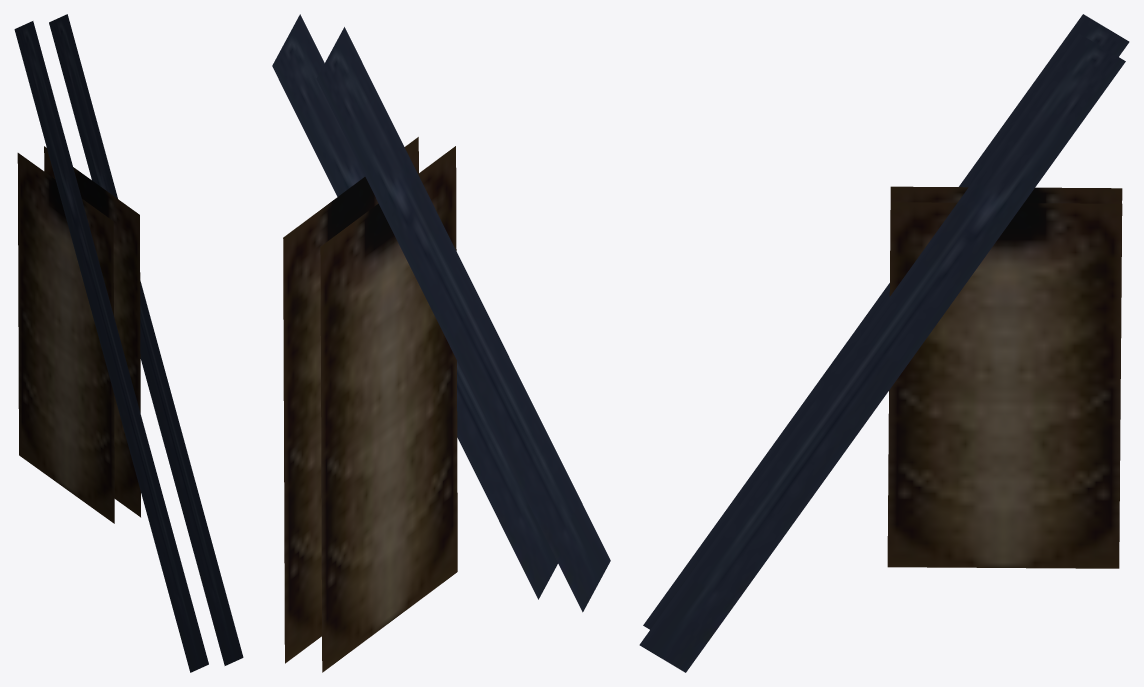
The model's file is sign1_eng_a_icon_tailor.fbx.
3 renders of one model, left to right at view 1: azimuth 30°, elevation 25°; view 2: azimuth 150°, elevation 25°; view 3: azimuth 270°, elevation 25°, orthographic. The views are drawn at different scales.
Parts seen in each view (by area): view 1: icon_thread, icon_needle; view 2: icon_thread, icon_needle; view 3: icon_thread, icon_needle.
Part boxes in pixels (x1=…): icon_thread: x1=17, y1=146, x2=140, y2=523; icon_needle: x1=14, y1=14, x2=243, y2=672; icon_thread: x1=283, y1=137, x2=457, y2=672; icon_needle: x1=272, y1=14, x2=610, y2=612; icon_thread: x1=887, y1=186, x2=1122, y2=568; icon_needle: x1=639, y1=14, x2=1129, y2=672.
Bounding box in the file's own units: 25 × 322 × 222.
Materials: 1 (1 with a texture image).
